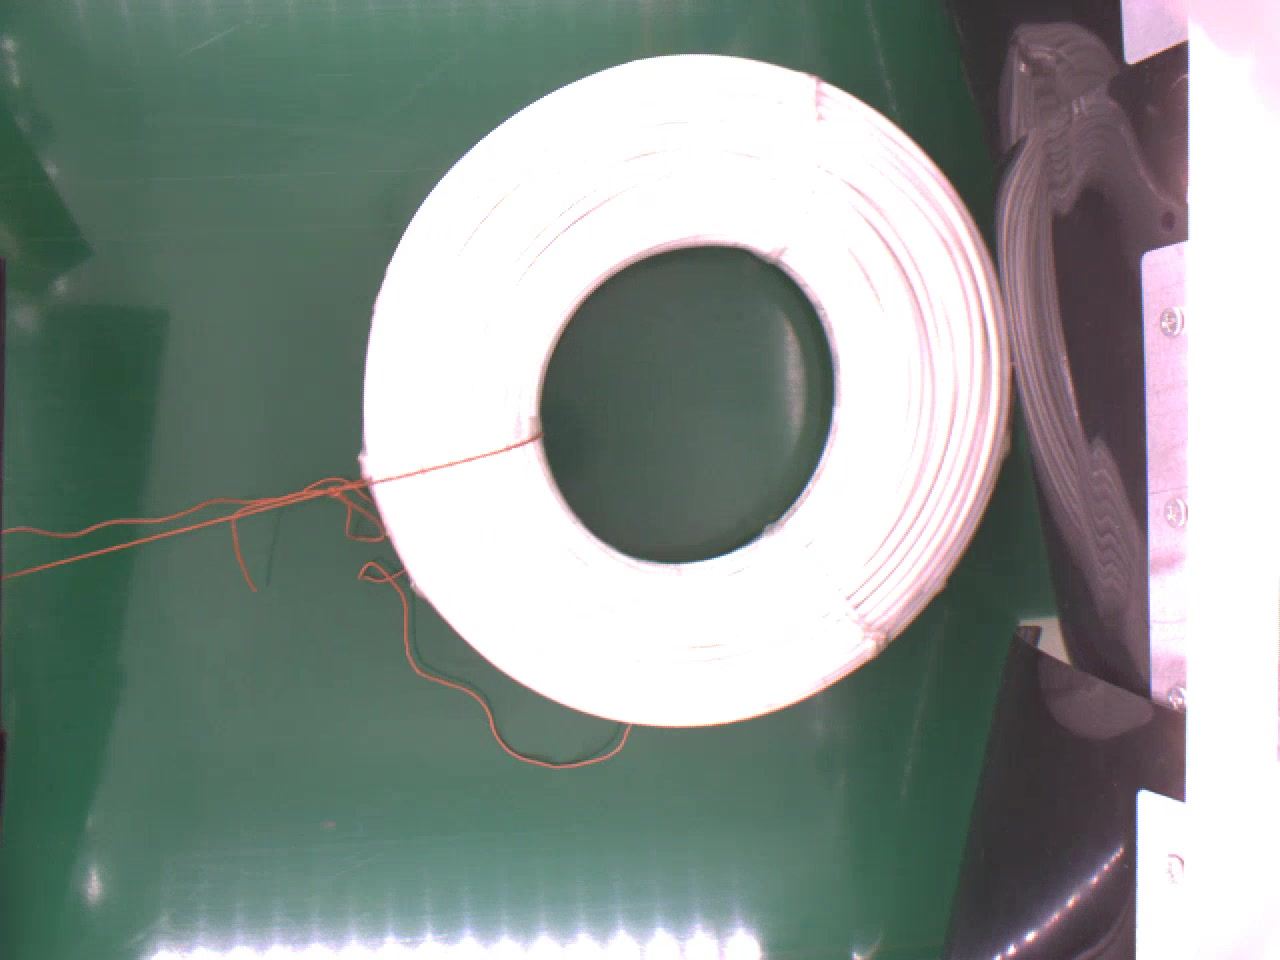white: (358, 48, 1017, 728)
